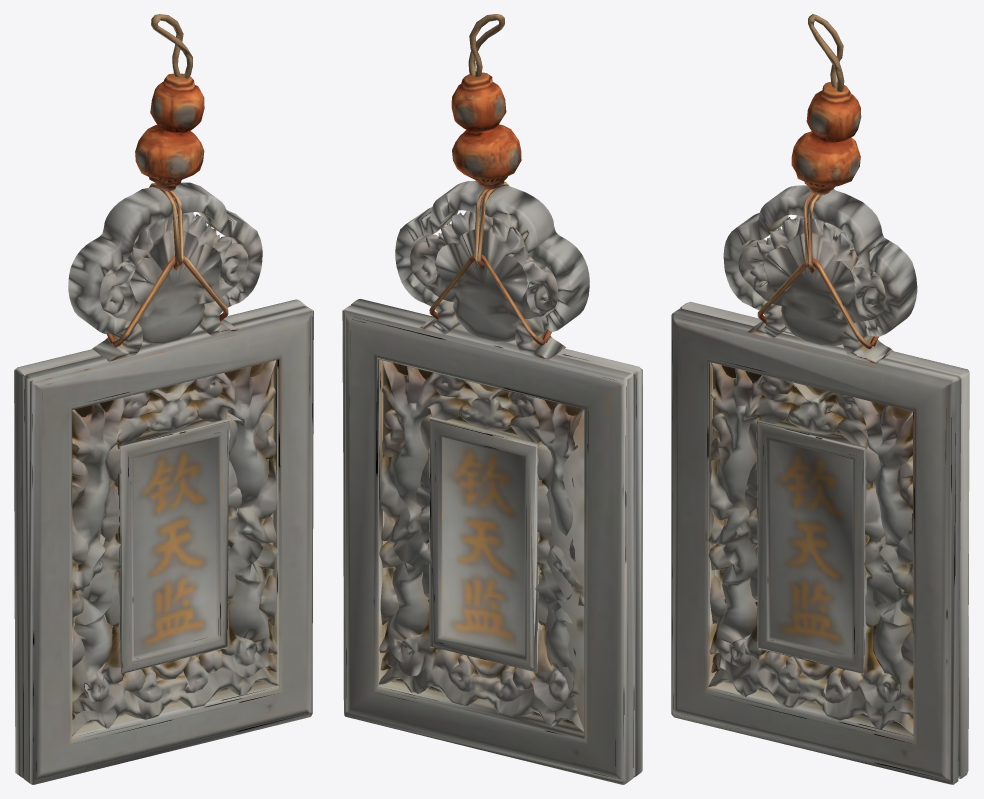
File: ngoc-lenh.glb
3 views of the same model, side by side, from view 1: azimuth 30°, elevation 25°; view 2: azimuth 150°, elevation 25°; view 3: azimuth 330°, elevation 25° (orthographic).
Parts seen in each view (by area): view 1: geometry_0; view 2: geometry_0; view 3: geometry_0.
Part boxes in pixels (bbox=[...]): geometry_0: bbox=[14, 14, 313, 784]; geometry_0: bbox=[342, 14, 642, 784]; geometry_0: bbox=[671, 14, 969, 784].
Bounding box in the file's own units: 0.3872 × 0.9512 × 0.0781.
Materials: 1 (1 with a texture image).
